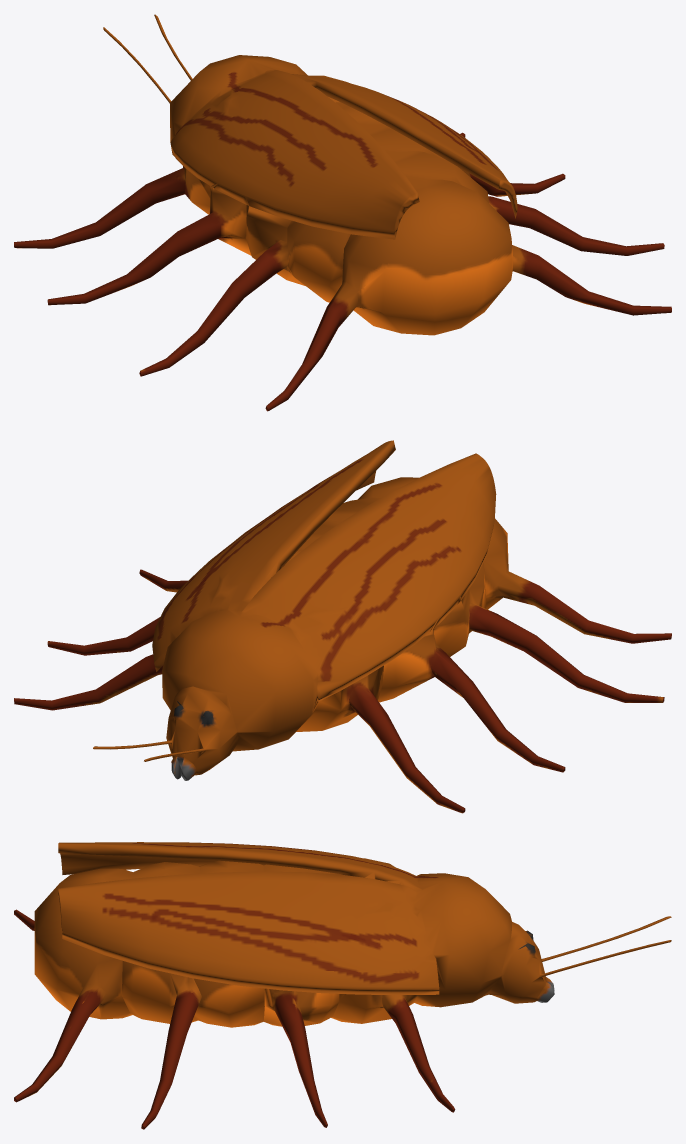
The model's file is taracan.FBX.
3 renders of one model, top to bottom at view 1: azimuth 30°, elevation 25°; view 2: azimuth 150°, elevation 25°; view 3: azimuth 270°, elevation 25°, orthographic. The views are drawn at different scales.
Visible parts, largest first — view 1: Sphere014; view 2: Sphere014; view 3: Sphere014.
Part boxes in pixels (x1,y1,x2,y2): Sphere014: [14, 14, 671, 411]; Sphere014: [14, 440, 671, 813]; Sphere014: [14, 842, 671, 1129].
Size of the model in its own units: 76.59 by 23.43 by 87.91.
1 material, 1 textured.
